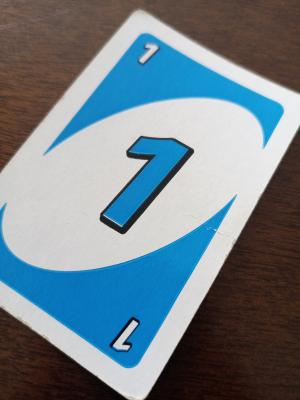num_1: (98, 124, 197, 236), (105, 309, 144, 360), (135, 32, 164, 76)
